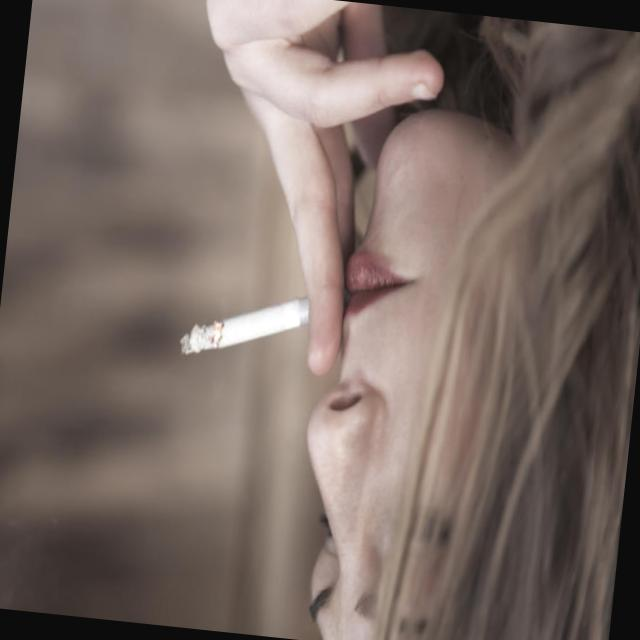cigarette: (180, 279, 310, 373)
